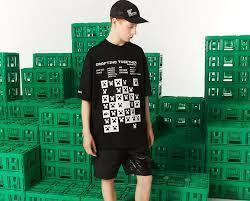Tshirt: (78, 39, 155, 150)
short: (89, 142, 157, 180)
